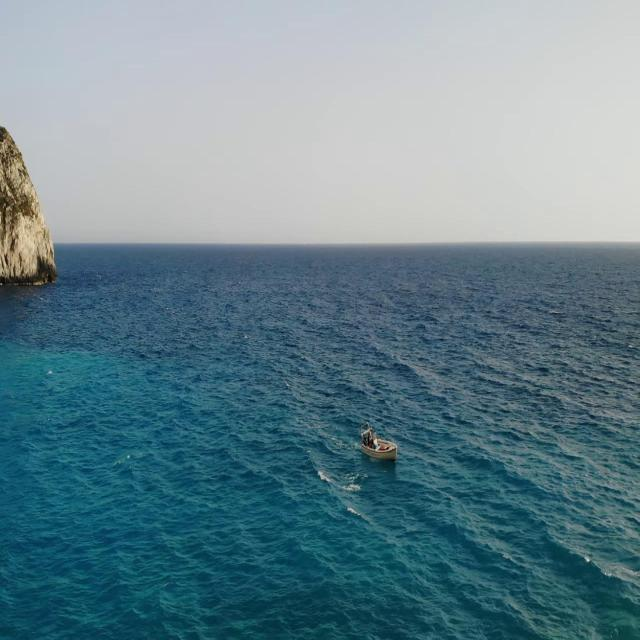boat: (360, 419, 396, 471)
